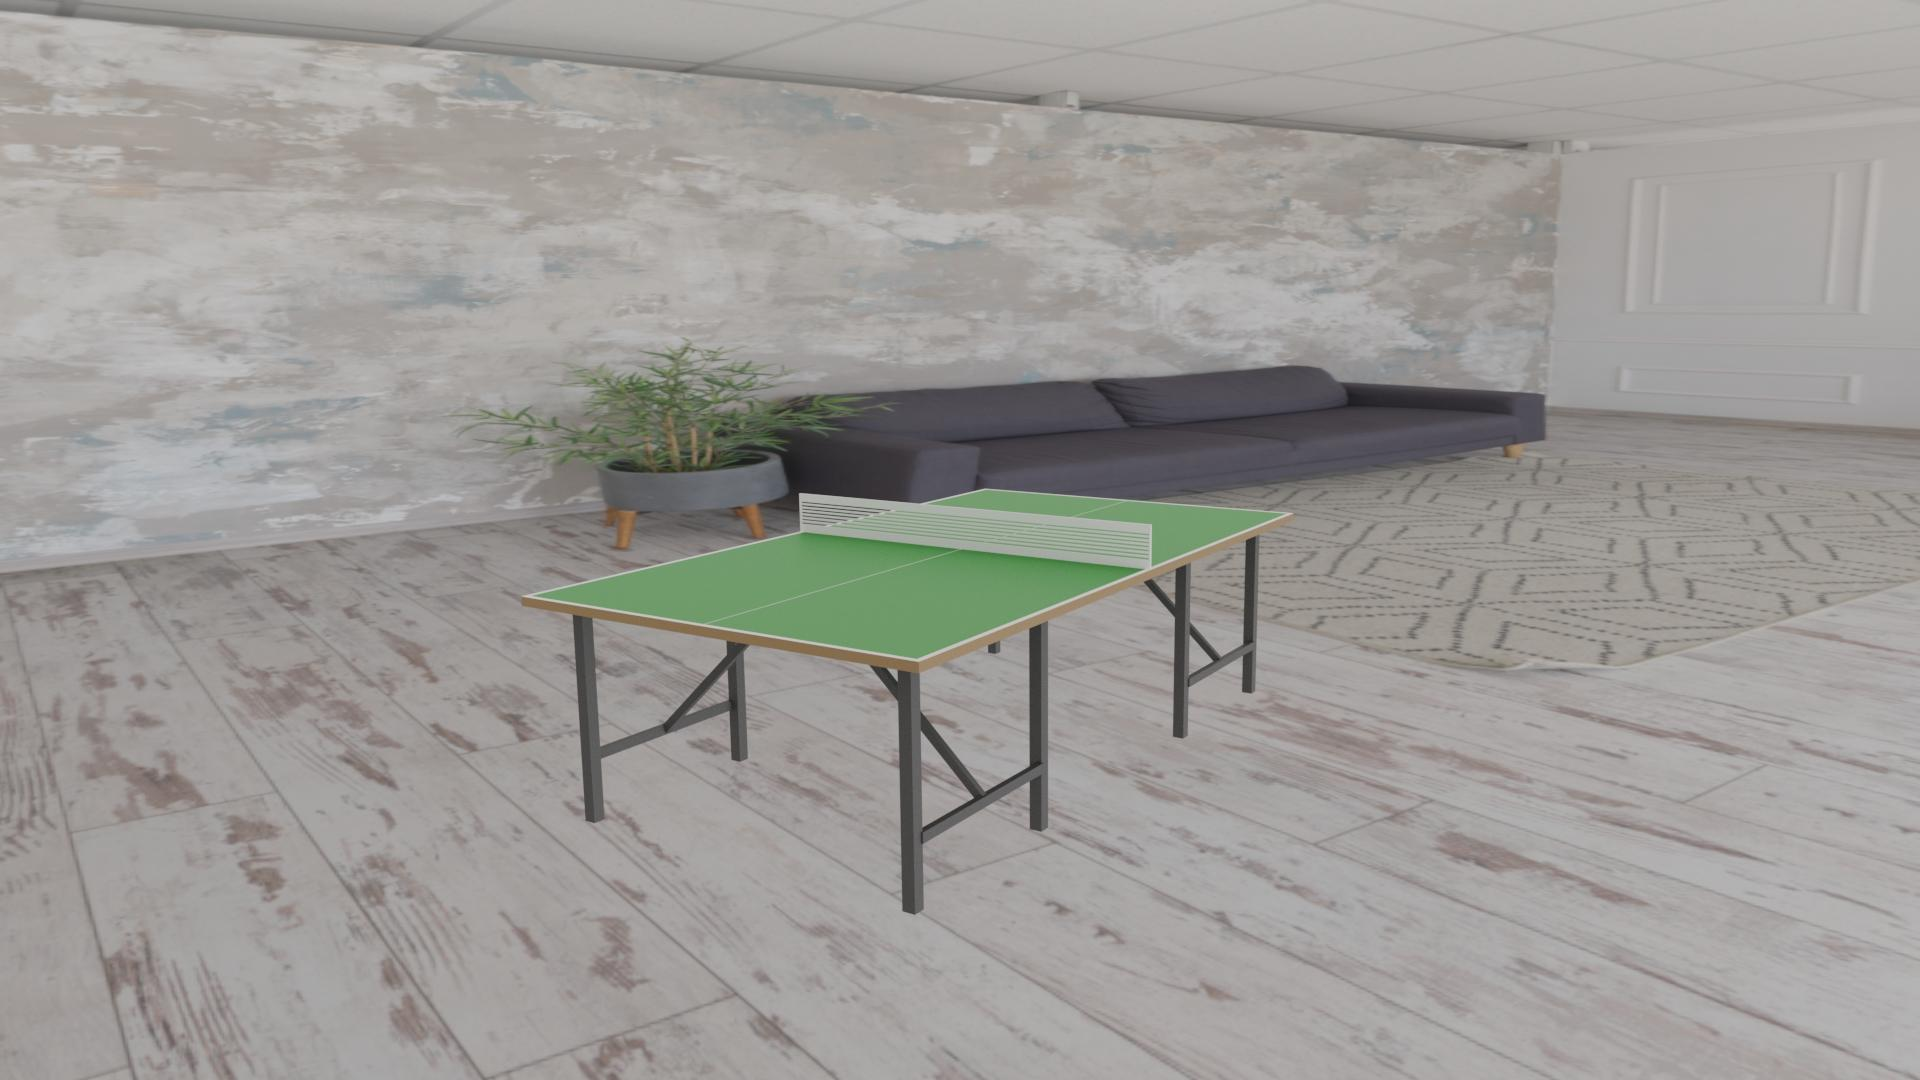table: (530, 489, 1287, 659)
